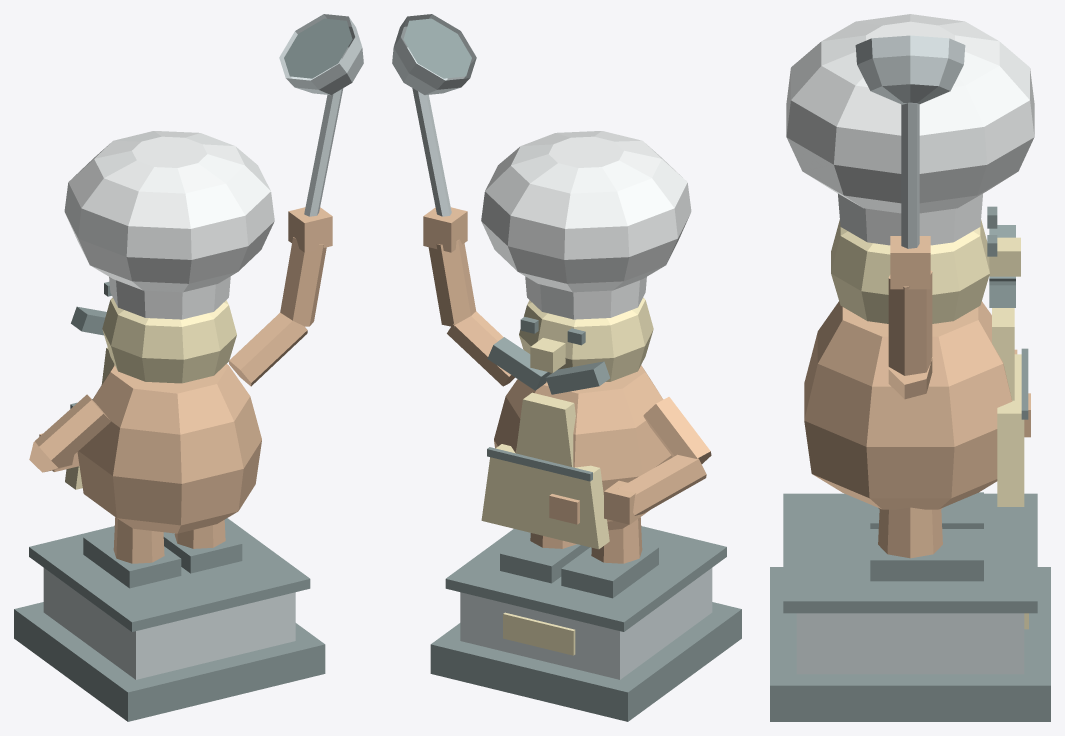
Rendered from chef_statue.glb.
The picture shows the model from 3 angles, left to right: view 1: azimuth 30°, elevation 25°; view 2: azimuth 150°, elevation 25°; view 3: azimuth 270°, elevation 25°; orthographic projection. The views are drawn at different scales.
Visible parts, largest first — view 1: ChefStatue; view 2: ChefStatue; view 3: ChefStatue.
Boxes of the visible parts, box(x1,y1,x2,y2) form: ChefStatue: box(14, 14, 363, 721); ChefStatue: box(392, 14, 741, 721); ChefStatue: box(770, 14, 1050, 721).
Bounding box in the file's own units: 0.6191 × 1.1 × 0.3818.
